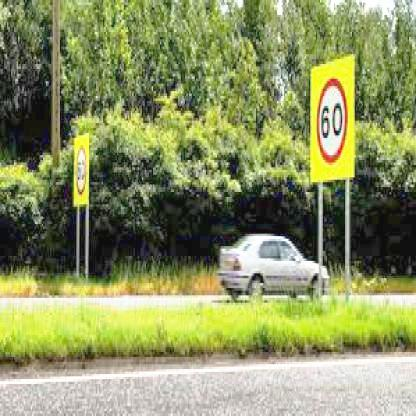Speed Limit -60-: (315, 78, 350, 162)
